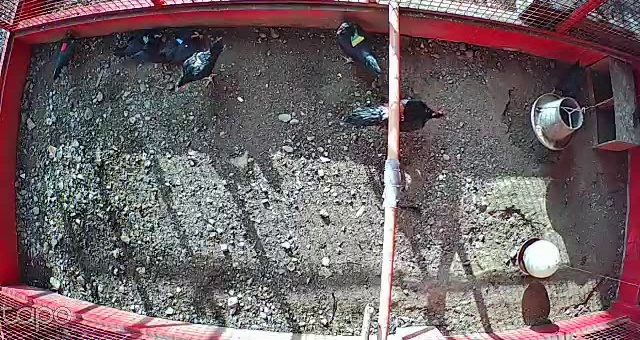Chicken: (331, 19, 387, 80), (177, 36, 235, 92), (152, 22, 210, 69), (112, 25, 172, 62), (51, 28, 87, 87)
Rooster: (334, 91, 449, 143)
Saddle_Color_Blue: (174, 36, 188, 49)
Saddle_Color_Red: (61, 41, 68, 53)
Saddle_Color_YellowGreen: (348, 28, 364, 48)
